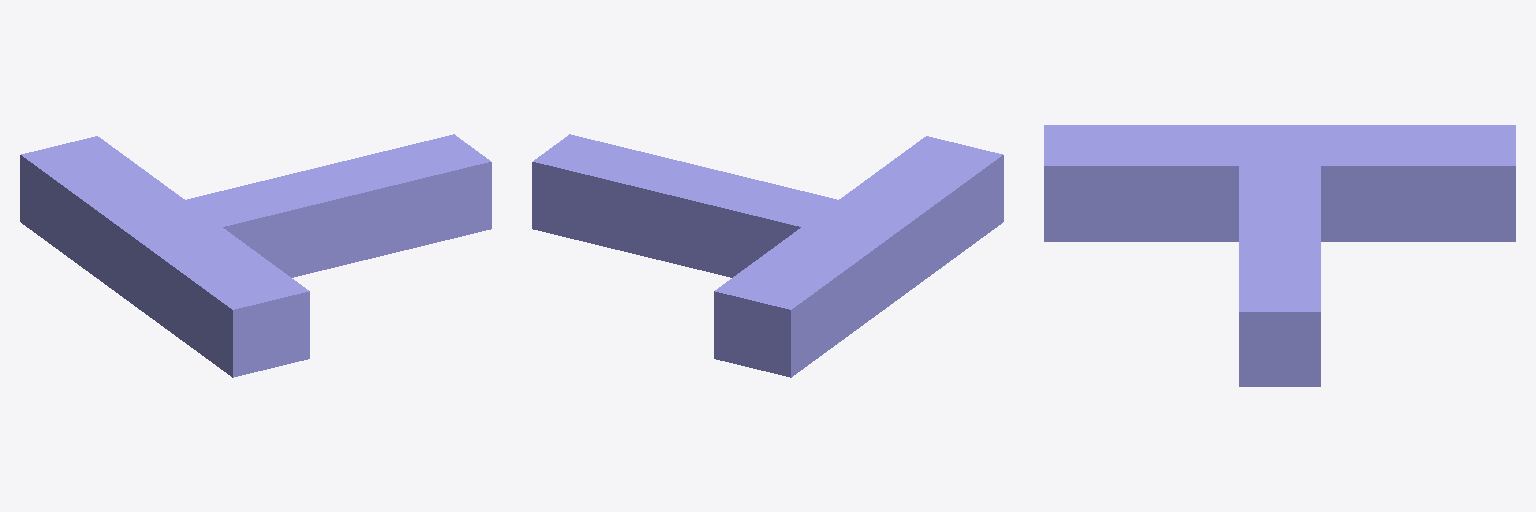
The robot description file, URDF, robot "Spacestation":
<?xml version="1.0" ?>
<robot name="Spacestation">
  <link name="SpaceStation_001">
   <inertial>
      <origin rpy="0 0 0" xyz="0.0 0.0 0.0"/>
      <mass value="143400.48834855022"/>
      <inertia ixx="62439959" ixy="0" ixz="0" iyy="83891996" iyz="0" izz="140407609"/>
    </inertial>
    <visual>
      <origin rpy="0 0 0" xyz="0.0 0.0 0.0"/>
      <geometry>
        <mesh filename="T_handle.obj"/>
      </geometry>
      <material name="white"/>
    </visual>
    <collision>
      <origin rpy="0 0 0" xyz="0.0 0.0 0.0"/>
      <geometry>
        <mesh filename="T_handle.obj"/>
      </geometry>
    </collision>
  </link>
 
  <material name="white">
    <color rgba="0.7 0.7 1 1"/>
  </material>
</robot>

--- What the picture shows (computed from the rendered views, not written in the file) ---
3 views of the same robot in one strip: view 1: azimuth 30°, elevation 25°; view 2: azimuth 150°, elevation 25°; view 3: azimuth 270°, elevation 25° (orthographic).
Model Spacestation with 1 links and 0 joints (none), rooted at SpaceStation_001, posed all joints at 0.
Links seen in each view (by area): view 1: SpaceStation_001; view 2: SpaceStation_001; view 3: SpaceStation_001.
Link boxes in pixels (bbox=[...]): SpaceStation_001: bbox=[20, 134, 491, 377]; SpaceStation_001: bbox=[532, 134, 1003, 377]; SpaceStation_001: bbox=[1044, 125, 1515, 386].
Bounding box of the posed robot: 10.71 × 11.37 × 2 m (x, y, z).
1 mesh visuals loaded from 1 distinct referenced files (1 OBJ).
